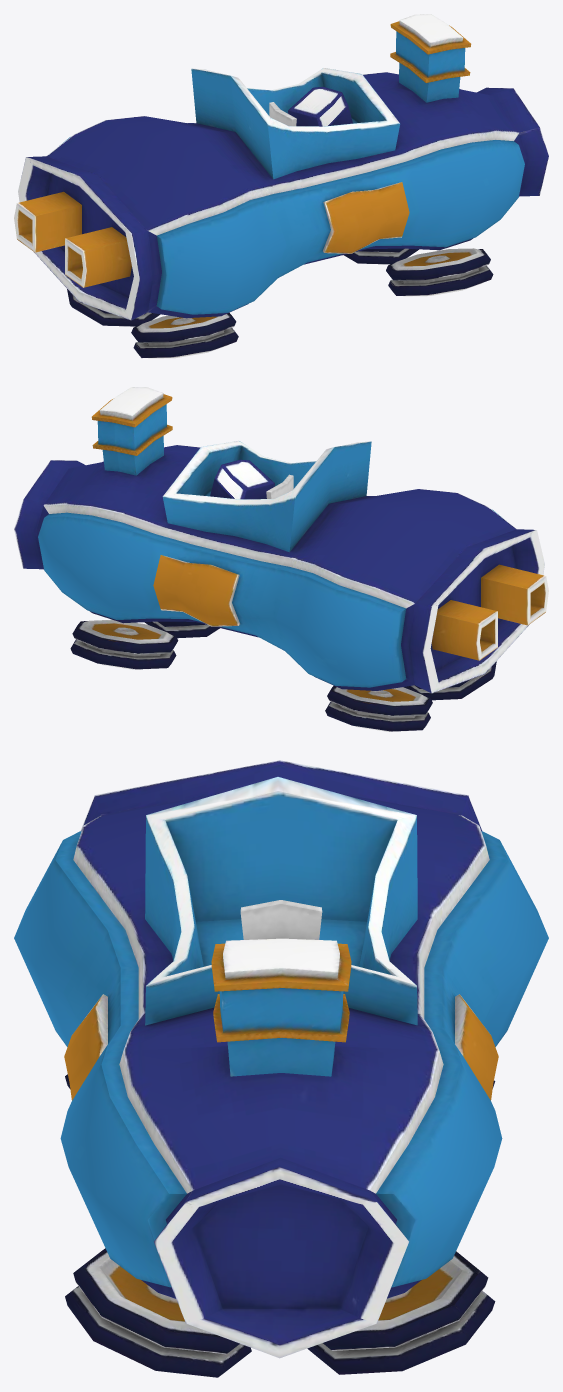
The model's file is hovercar.glb.
The picture shows the model from 3 angles, top to bottom: view 1: azimuth 30°, elevation 25°; view 2: azimuth 150°, elevation 25°; view 3: azimuth 270°, elevation 25°; orthographic projection. The views are drawn at different scales.
Visible parts, largest first — view 1: hovercar_body_Material #4_0, front_left_wheel, back_left_wheel, back_right_wheel, front_right_wheel; view 2: hovercar_body_Material #4_0, front_right_wheel, back_right_wheel, back_left_wheel, front_left_wheel; view 3: hovercar_body_Material #4_0, front_left_wheel, front_right_wheel.
Part boxes in pixels (x1,y1,x2,y2): hovercar_body_Material #4_0: [14, 14, 548, 320]; front_left_wheel: [386, 248, 493, 296]; back_left_wheel: [131, 312, 238, 358]; back_right_wheel: [67, 289, 160, 326]; front_right_wheel: [343, 248, 418, 264]; hovercar_body_Material #4_0: [14, 387, 548, 693]; front_right_wheel: [70, 619, 178, 669]; back_right_wheel: [325, 685, 432, 731]; back_left_wheel: [403, 661, 496, 700]; front_left_wheel: [144, 621, 219, 638]; hovercar_body_Material #4_0: [14, 760, 548, 1358]; front_left_wheel: [65, 1248, 251, 1377]; front_right_wheel: [307, 1251, 495, 1374].
Bounding box in the file's own units: 550 × 274 × 311.
Materials: 1 (1 with a texture image).
